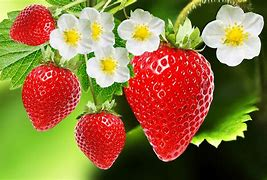Fresa: (123, 39, 217, 162), (20, 61, 84, 131), (73, 108, 130, 172), (10, 3, 56, 49)
